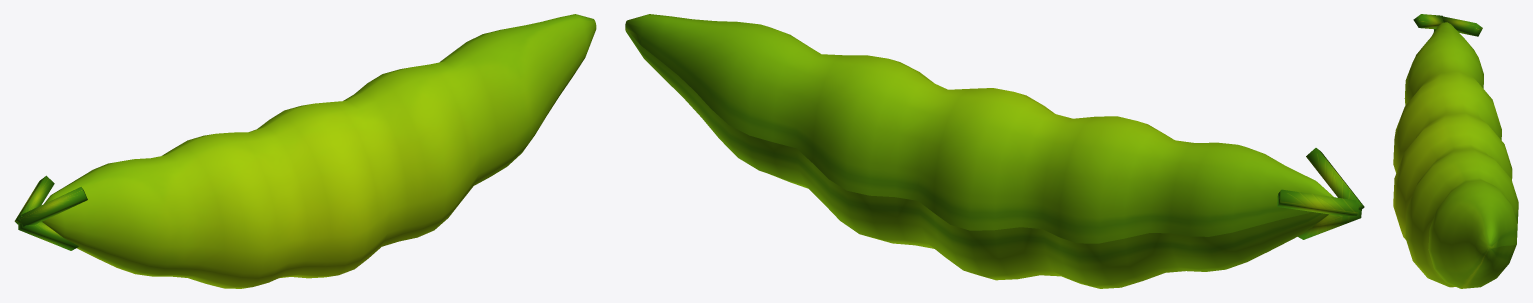
The model's file is NP_Pea_Harvest.fbx.
3 views of the same model, side by side, from view 1: azimuth 30°, elevation 25°; view 2: azimuth 150°, elevation 25°; view 3: azimuth 270°, elevation 25° (orthographic). The views are drawn at different scales.
Parts seen in each view (by area): view 1: NP_Pea_Harvest; view 2: NP_Pea_Harvest; view 3: NP_Pea_Harvest.
Boxes of the visible parts, bbox=[...] form: NP_Pea_Harvest: bbox=[14, 14, 596, 288]; NP_Pea_Harvest: bbox=[625, 14, 1364, 288]; NP_Pea_Harvest: bbox=[1393, 14, 1518, 288].
Size of the model in its own units: 29.51 by 8.24 by 6.19.
